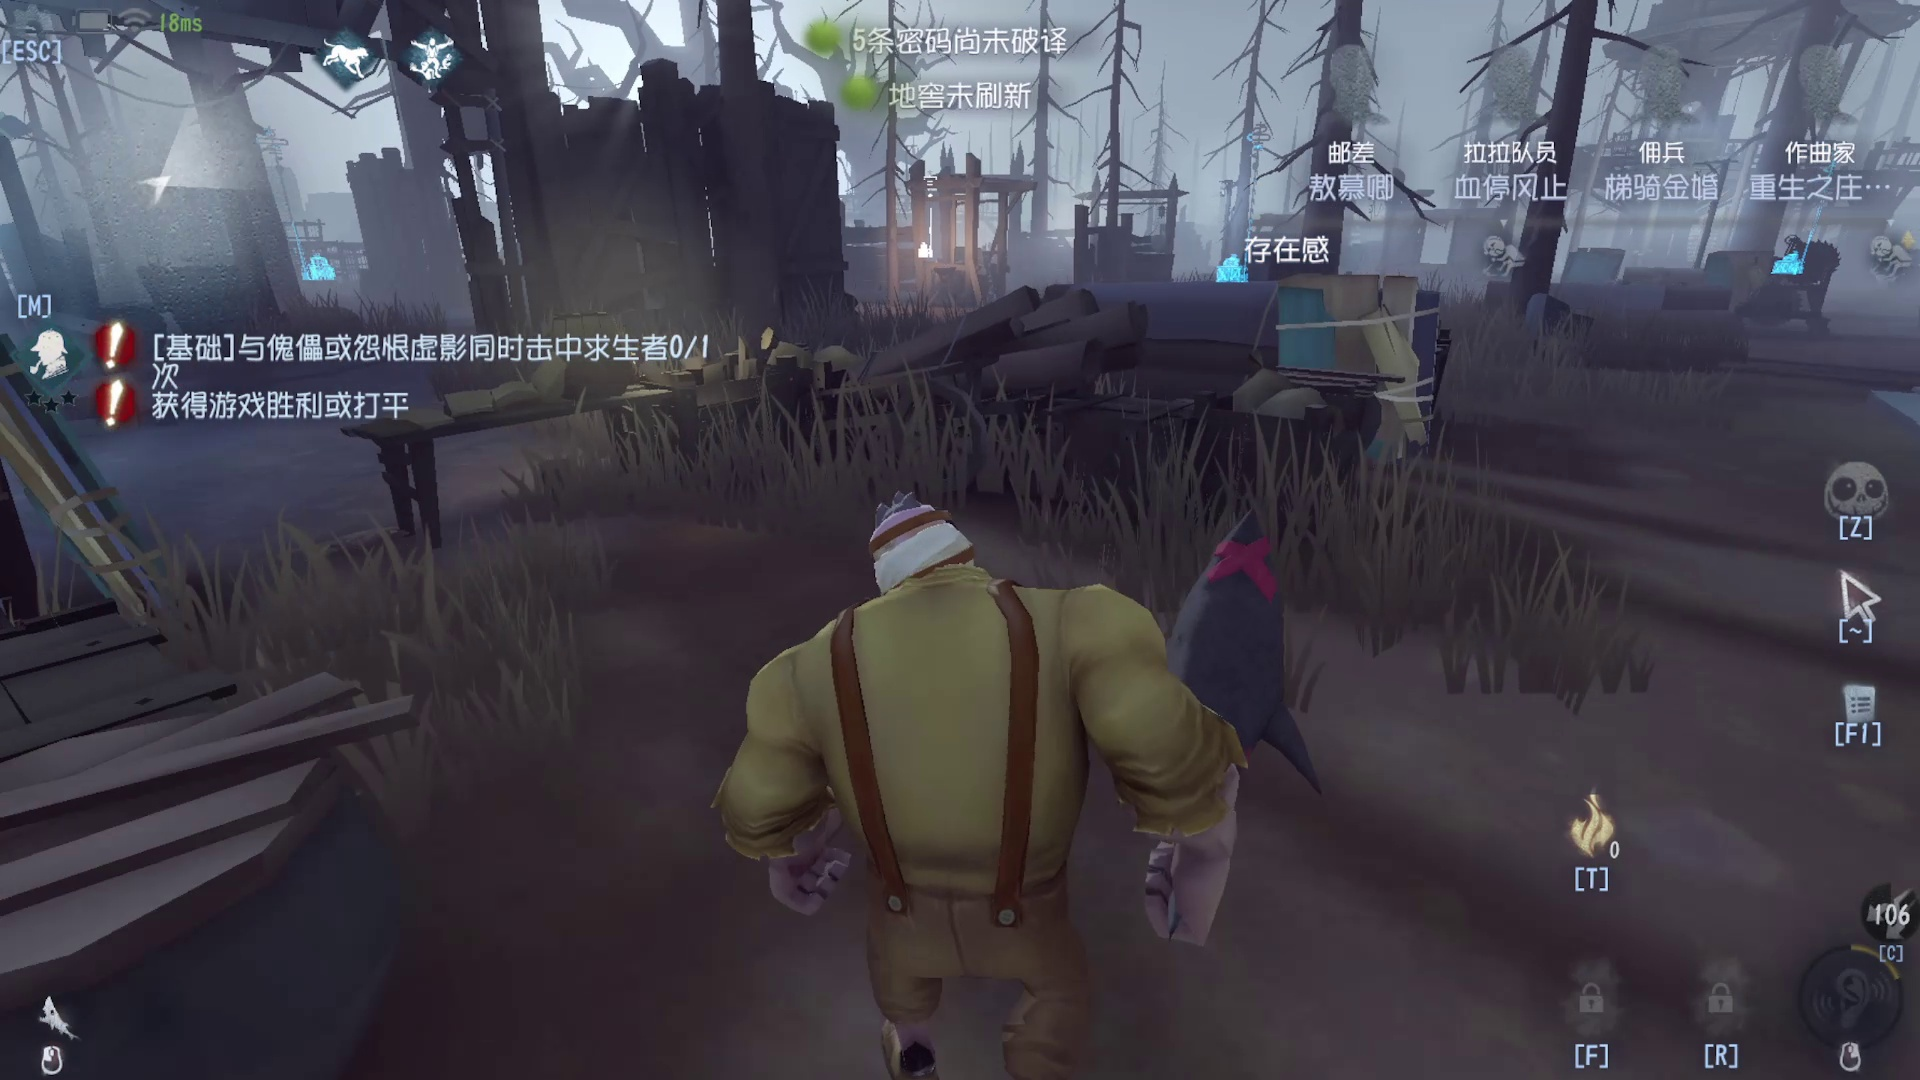密码机: (1224, 252, 1436, 476), (231, 113, 375, 287), (1775, 127, 1845, 305), (1211, 109, 1270, 298), (899, 160, 971, 280)
木板: (1, 313, 258, 678)
